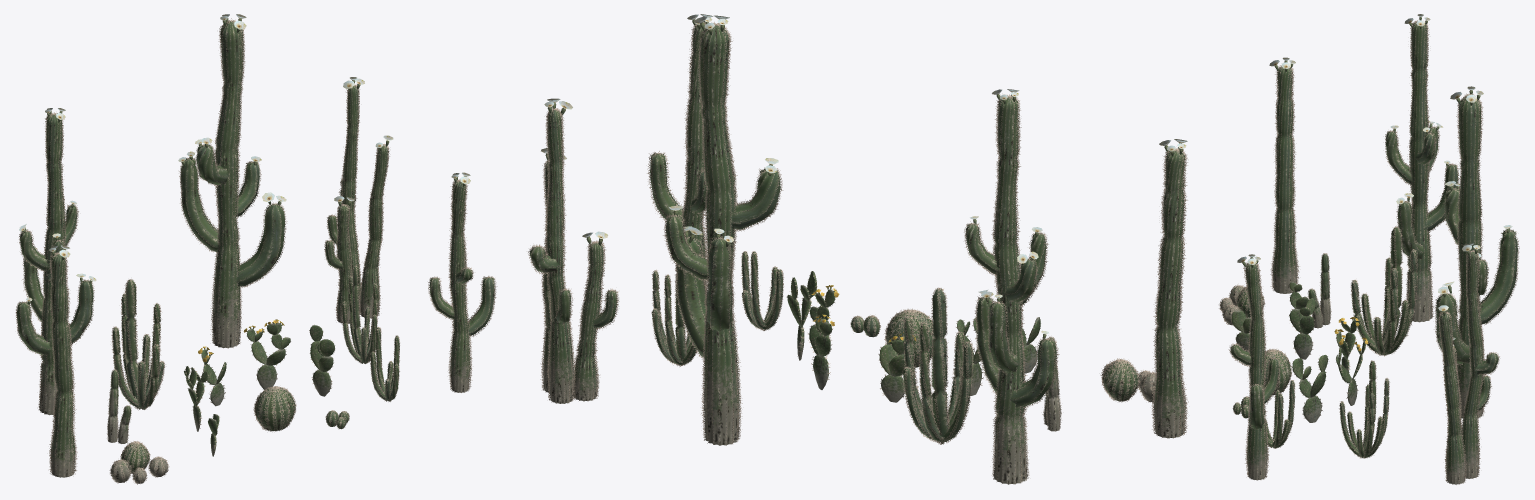
The picture shows the model from 3 angles, left to right: view 1: azimuth 30°, elevation 25°; view 2: azimuth 150°, elevation 25°; view 3: azimuth 270°, elevation 25°; orthographic projection. The views are drawn at different scales.
Parts seen in each view (by area): view 1: cactus_0, spines 01_7, cactus blend_2, cactus_1, prickly pear_5, saguaro flower_8, prickly pear blend_4; view 2: cactus_0, spines 01_7, cactus blend_2, cactus_1, prickly pear_5, prickly pear blend_4, saguaro flower_8; view 3: cactus_0, spines 01_7, cactus blend_2, cactus_1, prickly pear_5, prickly pear blend_4, saguaro flower_8, spines 02_9, saguaro stem_3.
Part boxes in pixels (bbox=[...]): cactus_0: bbox=[17, 21, 494, 473]; spines 01_7: bbox=[15, 18, 497, 484]; cactus blend_2: bbox=[39, 267, 470, 483]; cactus_1: bbox=[113, 266, 399, 409]; prickly pear_5: bbox=[184, 323, 334, 435]; saguaro flower_8: bbox=[19, 14, 470, 301]; prickly pear blend_4: bbox=[193, 364, 331, 456]; cactus_0: bbox=[530, 25, 1184, 441]; spines 01_7: bbox=[528, 22, 1188, 484]; cactus blend_2: bbox=[543, 245, 1185, 484]; cactus_1: bbox=[652, 252, 971, 443]; prickly pear_5: bbox=[787, 271, 1040, 376]; prickly pear blend_4: bbox=[797, 325, 1037, 402]; saguaro flower_8: bbox=[541, 14, 1187, 334]; cactus_0: bbox=[1230, 22, 1517, 451]; spines 01_7: bbox=[1219, 20, 1519, 484]; cactus blend_2: bbox=[1220, 247, 1483, 484]; cactus_1: bbox=[1265, 227, 1408, 457]; prickly pear_5: bbox=[1231, 282, 1365, 397]; prickly pear blend_4: bbox=[1236, 332, 1357, 422]; saguaro flower_8: bbox=[1237, 14, 1512, 348]; spines 02_9: bbox=[1231, 283, 1365, 418]; saguaro stem_3: bbox=[1242, 17, 1510, 316].
Size of the model in its own units: 5.42 by 3.95 by 3.27.
Materials: 11 (11 with a texture image).
